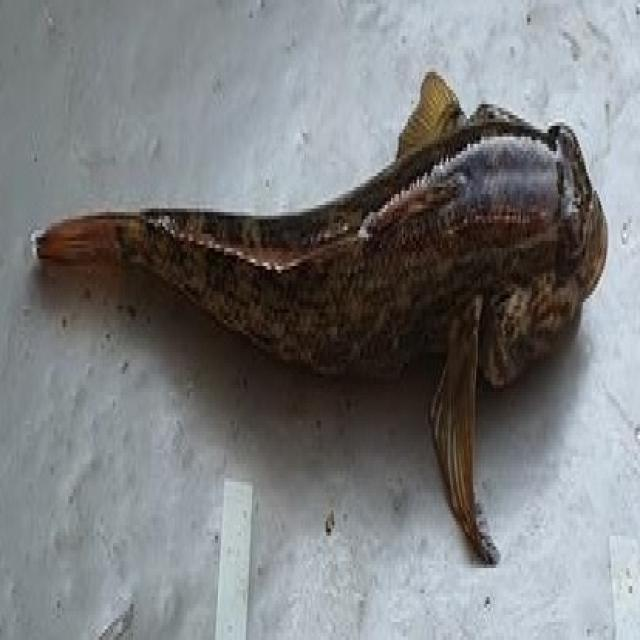Goby: (0, 72, 640, 563)
